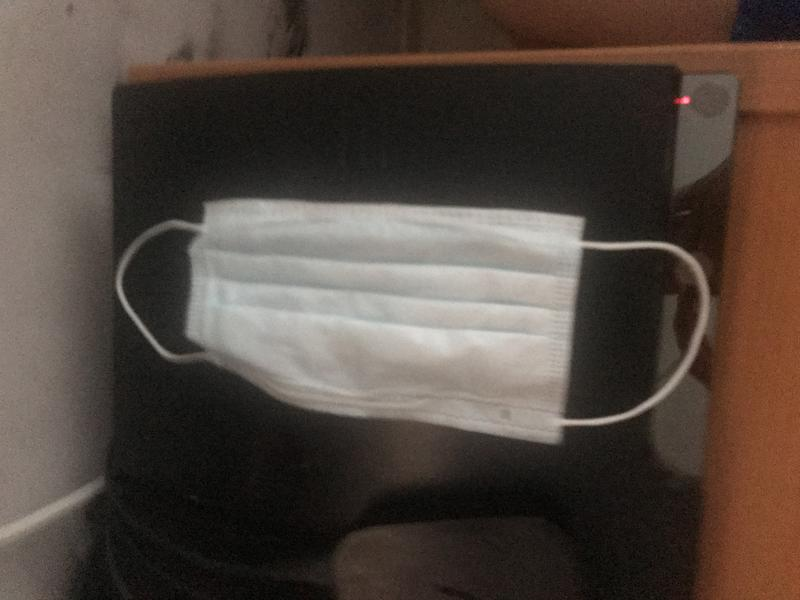medical_mask: (114, 198, 706, 446)
